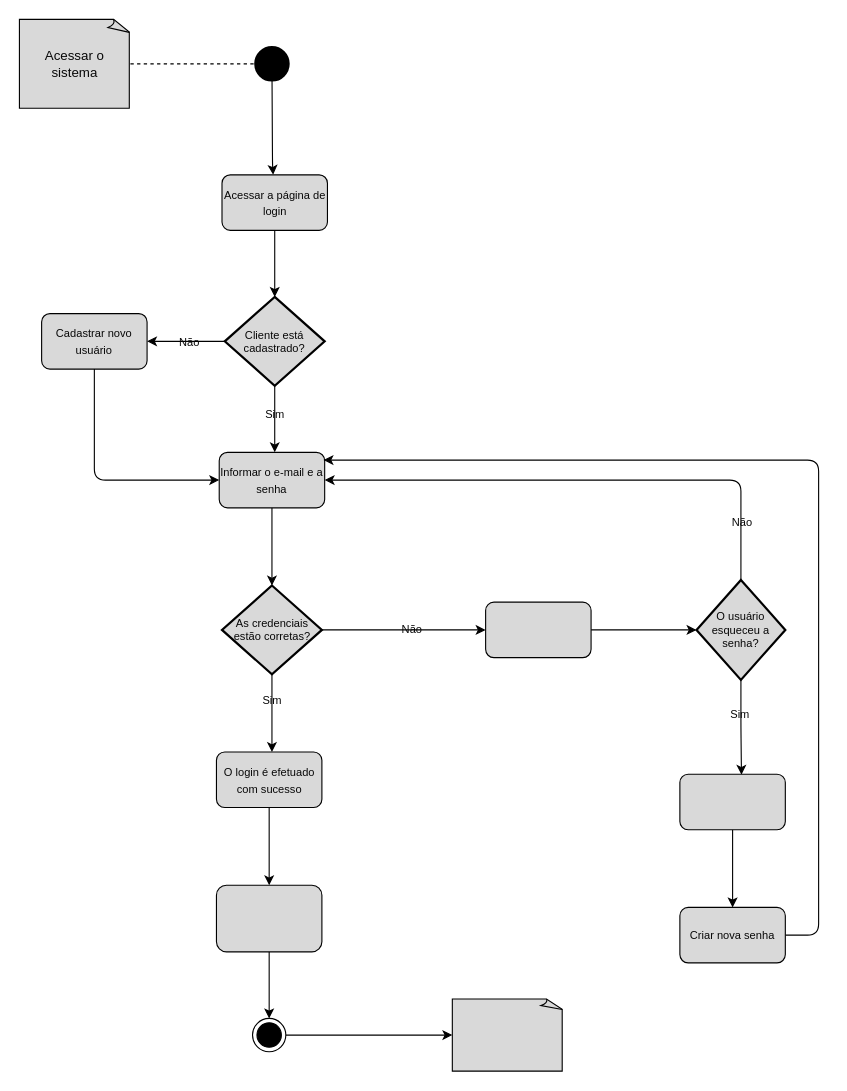
Some shapes in this 847 by 1091 pixel diagram are drawn without their labels. The centre of each missing label's shape, as x and y in pixels:
"Cliente acessa o sistema" goes at pixel 507 1034.
"Cliente é redirecionado para tela inicial do sistema" goes at pixel 268 918.
"Credenciais inválidas" goes at pixel 538 629.
"Solicitar recuperação de senha" goes at pixel 732 801.
